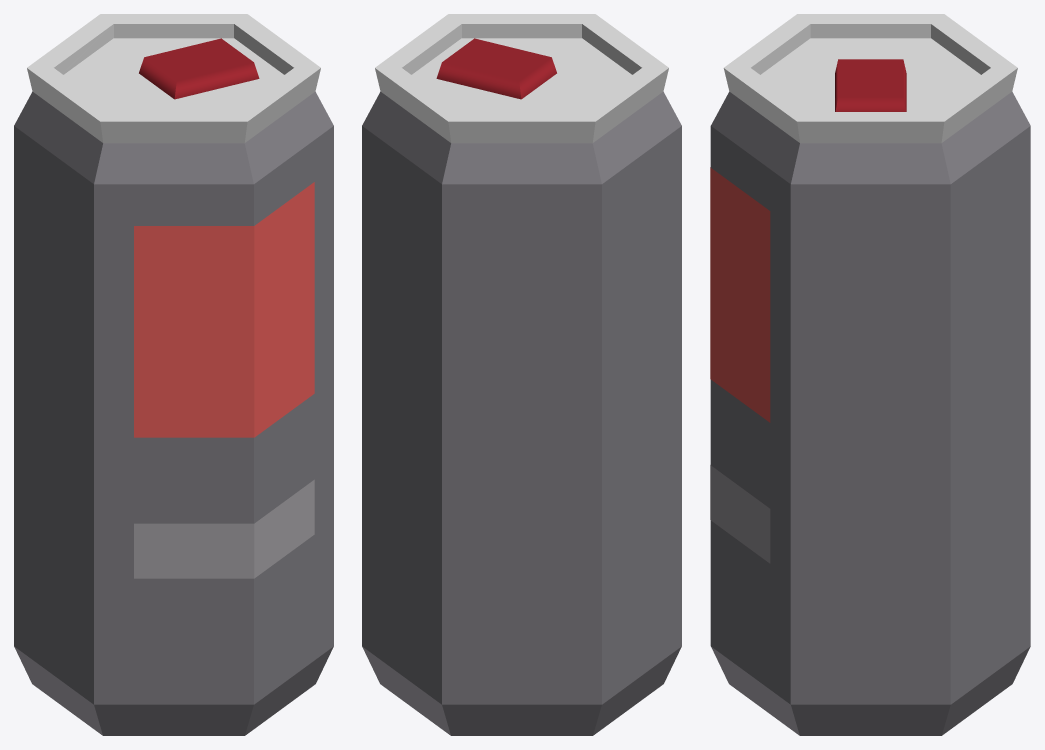
File: can.fbx
The picture shows the model from 3 angles, left to right: view 1: azimuth 30°, elevation 25°; view 2: azimuth 150°, elevation 25°; view 3: azimuth 270°, elevation 25°; orthographic projection.
Parts seen in each view (by area): view 1: Can; view 2: Can; view 3: Can.
Part boxes in pixels (x1=…): Can: x1=14, y1=14, x2=333, y2=735; Can: x1=362, y1=14, x2=681, y2=735; Can: x1=710, y1=14, x2=1030, y2=735.
Size of the model in its own units: 10 by 24.62 by 11.57.
